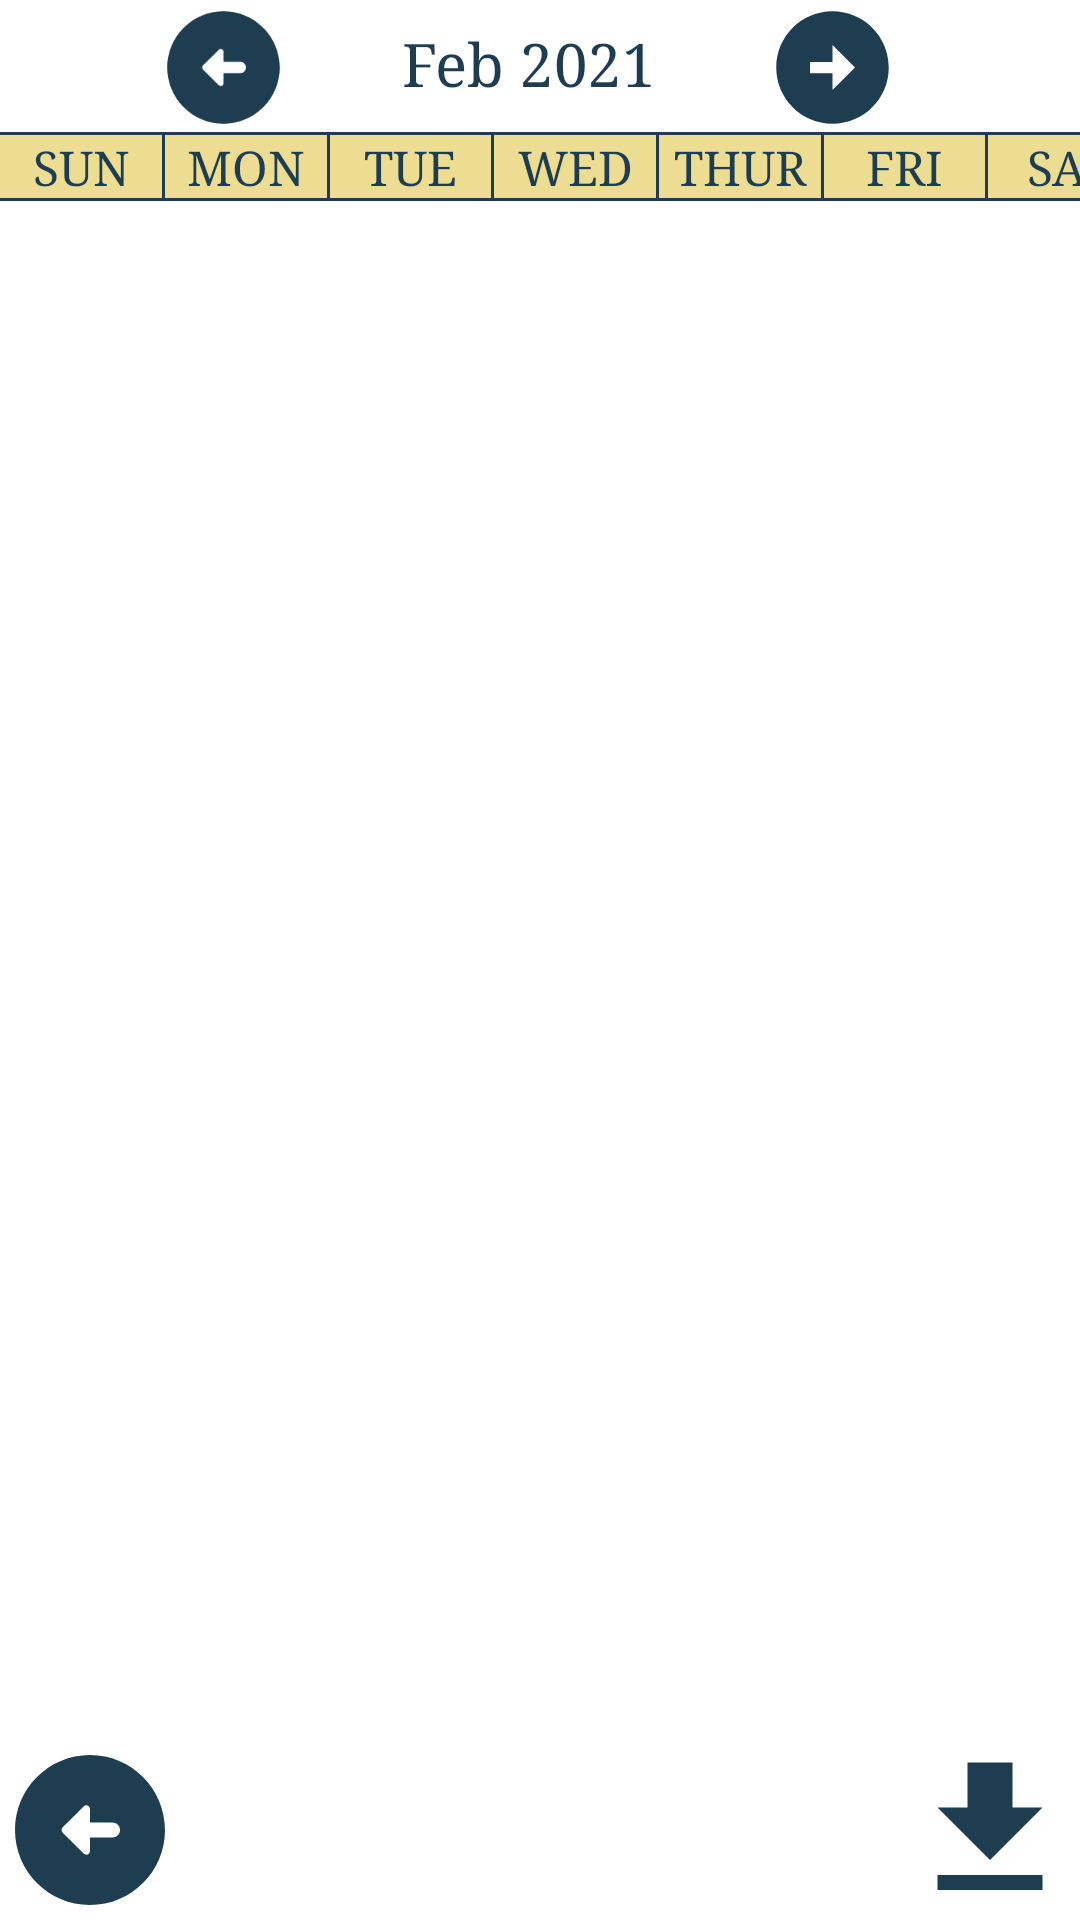

Icon click points for this 1080 x 1920 phone screenshot, format [x,y]:
arrow circle left: [223,67], [90,1830]
download: [990,1826]
nextarrow: [832,67]
